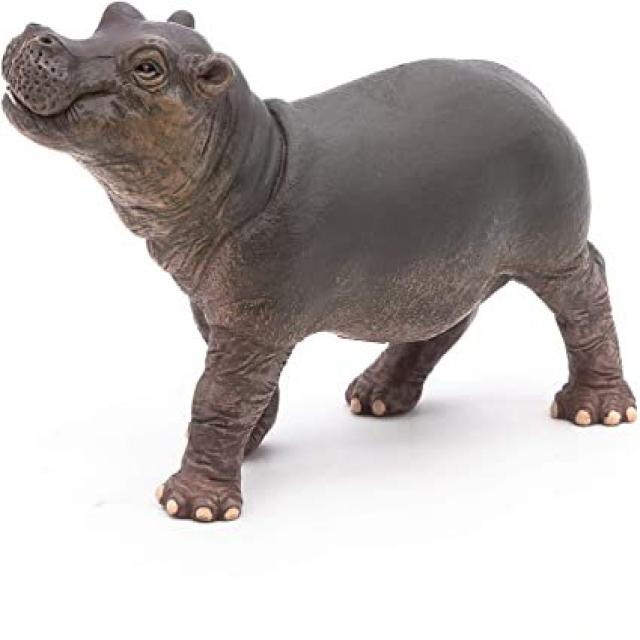Hippopotamus: (8, 5, 640, 517)
